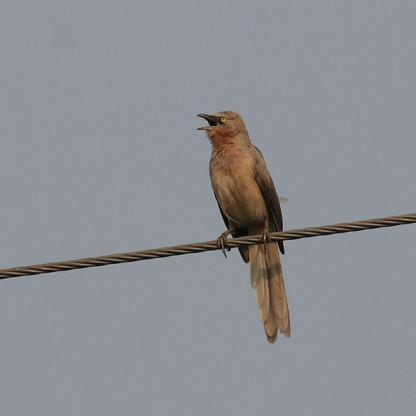Burung: (197, 111, 289, 343)
